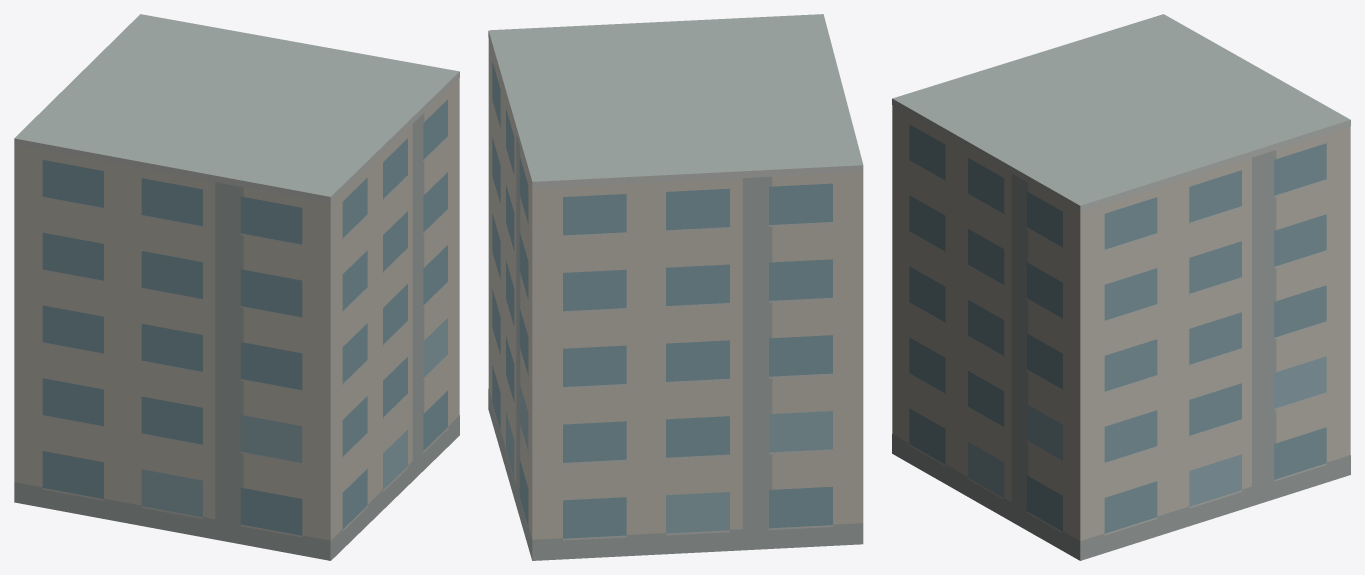
Rendered from survey-upis-32531815.glb.
3 views of the same model, side by side, from view 1: azimuth 30°, elevation 25°; view 2: azimuth 150°, elevation 25°; view 3: azimuth 270°, elevation 25° (orthographic). The views are drawn at different scales.
Visible parts, largest first — view 1: survey-upis-32531815.tmp; view 2: survey-upis-32531815.tmp; view 3: survey-upis-32531815.tmp.
Part boxes in pixels (x1,y1,x2,y2): survey-upis-32531815.tmp: (14, 14, 459, 560); survey-upis-32531815.tmp: (488, 14, 863, 560); survey-upis-32531815.tmp: (892, 14, 1350, 560).
Bounding box in the file's own units: 15.53 × 13.4 × 15.69.
